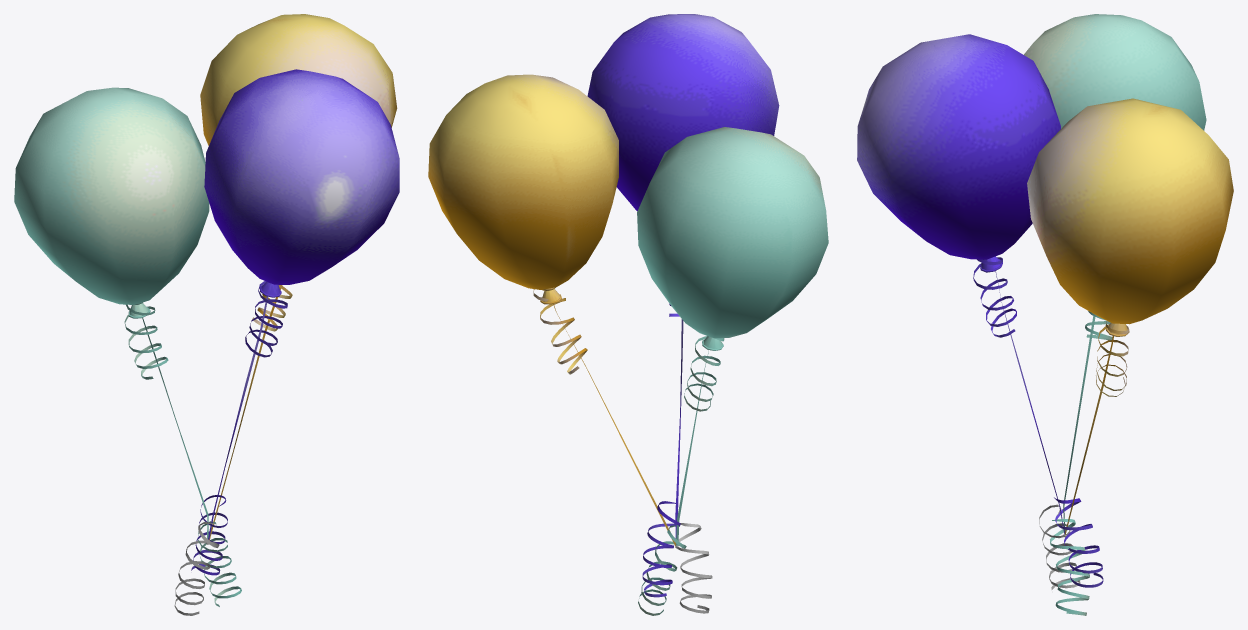
Rendered from QiQiu_01.fbx.
3 views of the same model, side by side, from view 1: azimuth 30°, elevation 25°; view 2: azimuth 150°, elevation 25°; view 3: azimuth 270°, elevation 25° (orthographic). The views are drawn at different scales.
Visible parts, largest first — view 1: Qiqiu1; view 2: Qiqiu1; view 3: Qiqiu1.
Boxes of the visible parts, x1,y1,x2,y2 form: Qiqiu1: (14, 14, 399, 615); Qiqiu1: (428, 14, 828, 615); Qiqiu1: (857, 14, 1233, 615).
Size of the model in its own units: 276 by 402 by 235.
